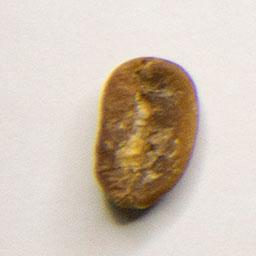defect: (90, 52, 202, 215)
